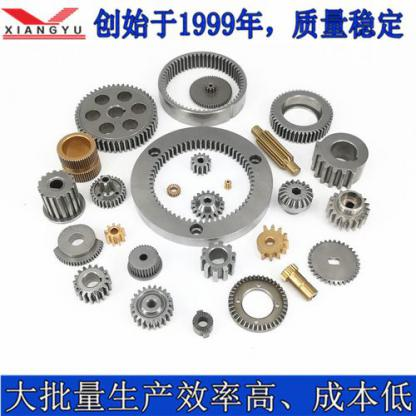FOD: (130, 123, 276, 241), (156, 49, 250, 121), (70, 80, 160, 151), (269, 86, 336, 144), (307, 130, 374, 188), (33, 167, 88, 224), (126, 281, 176, 334), (307, 237, 359, 286), (325, 188, 371, 234), (71, 261, 114, 304), (124, 243, 166, 279), (277, 176, 313, 215), (88, 172, 128, 207)
